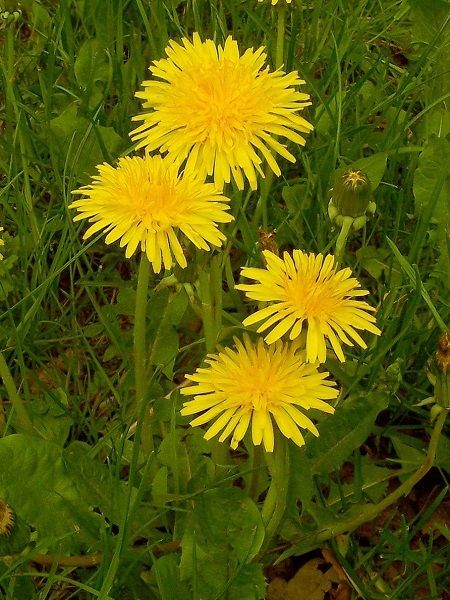begonvil: (127, 30, 316, 191), (181, 339, 348, 454), (234, 239, 381, 366), (74, 165, 237, 276)
